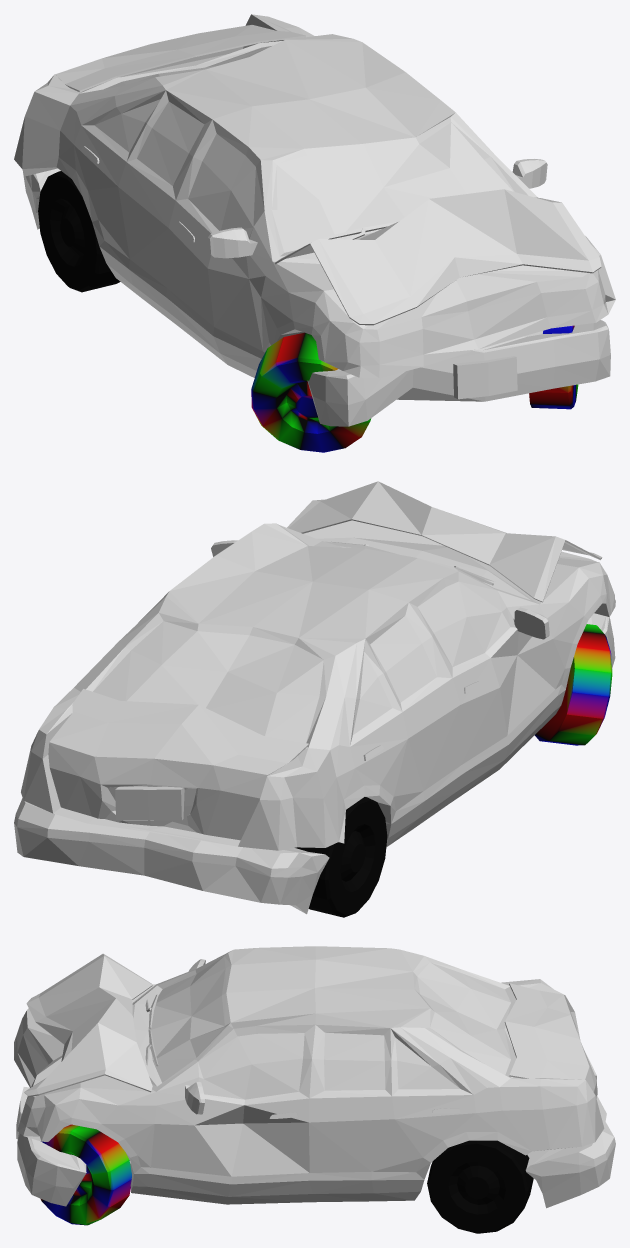
Rendered from pasli.FBX.
3 renders of one model, top to bottom at view 1: azimuth 30°, elevation 25°; view 2: azimuth 150°, elevation 25°; view 3: azimuth 270°, elevation 25°, orthographic. The views are drawn at different scales.
Parts seen in each view (by area): view 1: paslı; view 2: paslı; view 3: paslı.
Boxes of the visible parts, x1=… form: paslı: x1=14, y1=14, x2=615, y2=452; paslı: x1=14, y1=481, x2=615, y2=917; paslı: x1=14, y1=946, x2=615, y2=1233.
Size of the model in its own units: 234 by 150 by 422.
